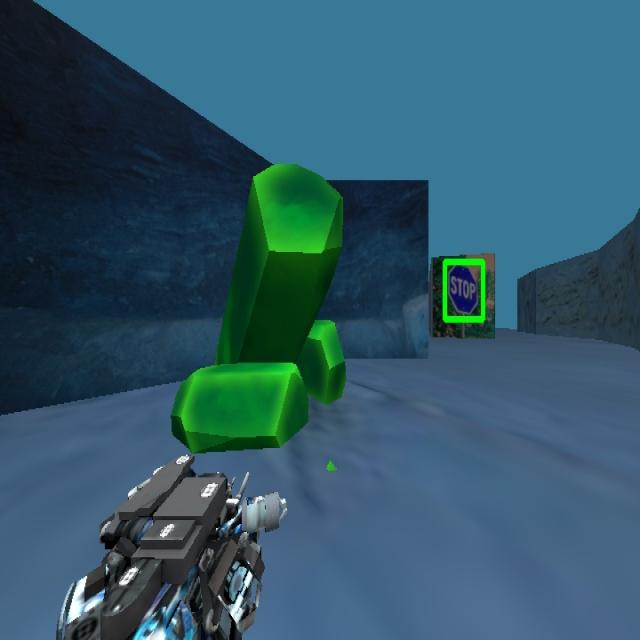Diamon: (170, 160, 346, 453)
Stop_Sign: (441, 256, 486, 324)
